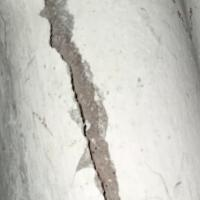crack: (29, 5, 118, 199)
